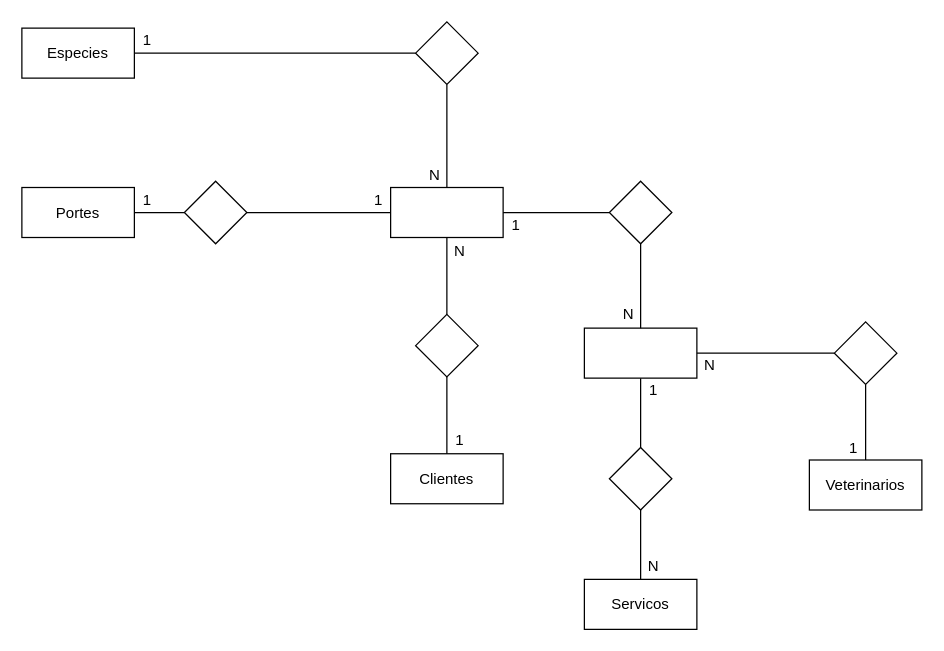
Some shapes in this 944 by 651 pixel diagram are drawn without their labels. The centre of each missing label's shape, as x and y in pixels:
"Atendimentos" goes at (640,352).
"Pet" goes at (446,212).
